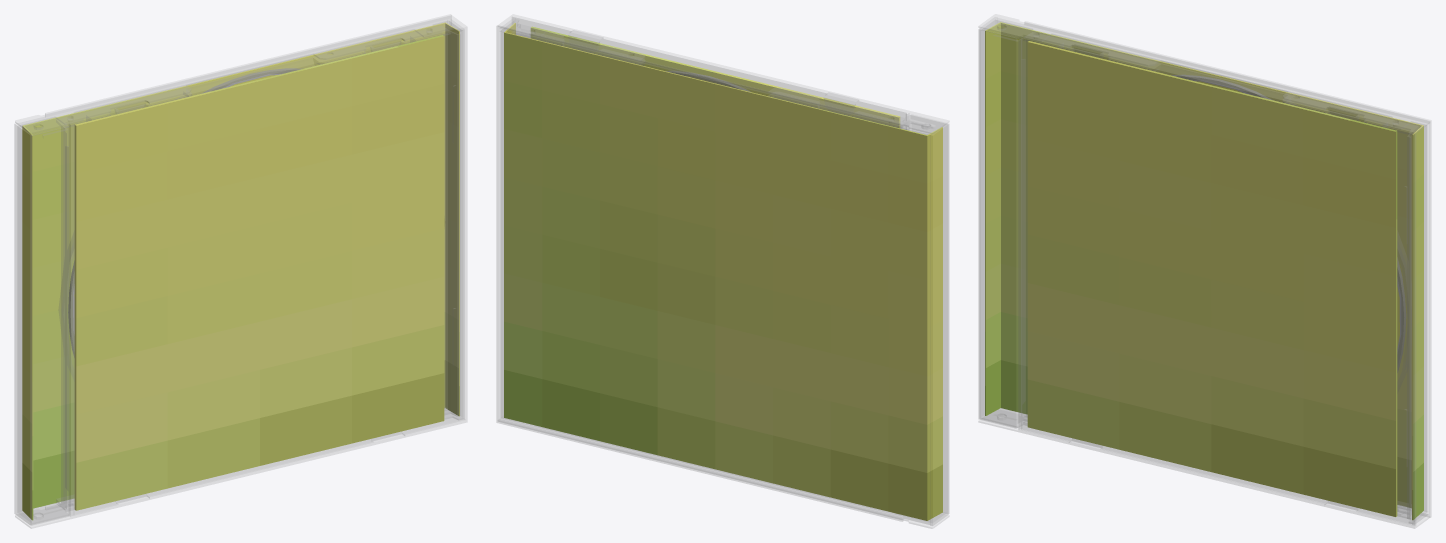
Rendered from jewel-case.glb.
3 views of the same model, side by side, from view 1: azimuth 30°, elevation 25°; view 2: azimuth 150°, elevation 25°; view 3: azimuth 330°, elevation 25° (orthographic).
Parts seen in each view (by area): view 1: cd_case_front, booklet, back_insert, cd_case_disc_holder, cd_case_back, cd; view 2: cd_case_back, back_insert, cd_case_front, booklet, cd_case_disc_holder; view 3: cd_case_front, booklet, back_insert, cd_case_disc_holder, cd_case_back, cd.
Boxes of the visible parts, x1,y1,x2,y2 form: cd_case_front: (15,15,467,528); booklet: (74,35,444,510); back_insert: (22,22,459,520); cd_case_disc_holder: (30,30,459,525); cd_case_back: (14,14,463,524); cd: (68,68,302,357); cd_case_back: (496,19,948,525); back_insert: (504,23,942,520); cd_case_front: (498,14,949,528); booklet: (530,26,900,127); cd_case_disc_holder: (512,24,949,513); cd_case_front: (978,14,1429,528); booklet: (1027,41,1397,516); back_insert: (985,22,1423,520); cd_case_disc_holder: (978,29,1411,518); cd_case_back: (979,17,1431,523); cd: (1171,74,1406,372).
Size of the model in its own units: 14.23 by 12.36 by 0.9602.
9 materials, 4 textured.
